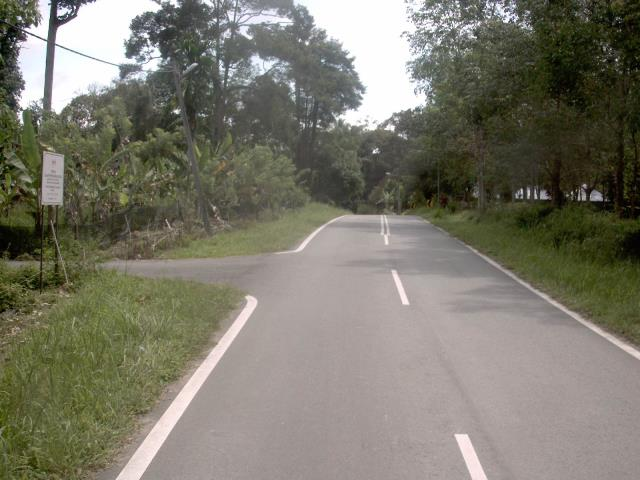ads_sign: (34, 144, 70, 212)
